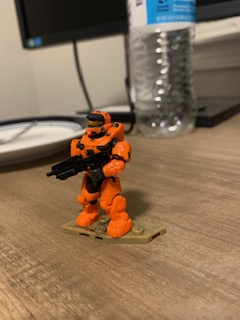rifle: (43, 150, 116, 179)
spartan: (66, 108, 137, 239)
